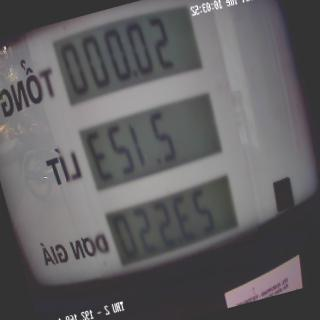screen: (41, 0, 258, 292)
